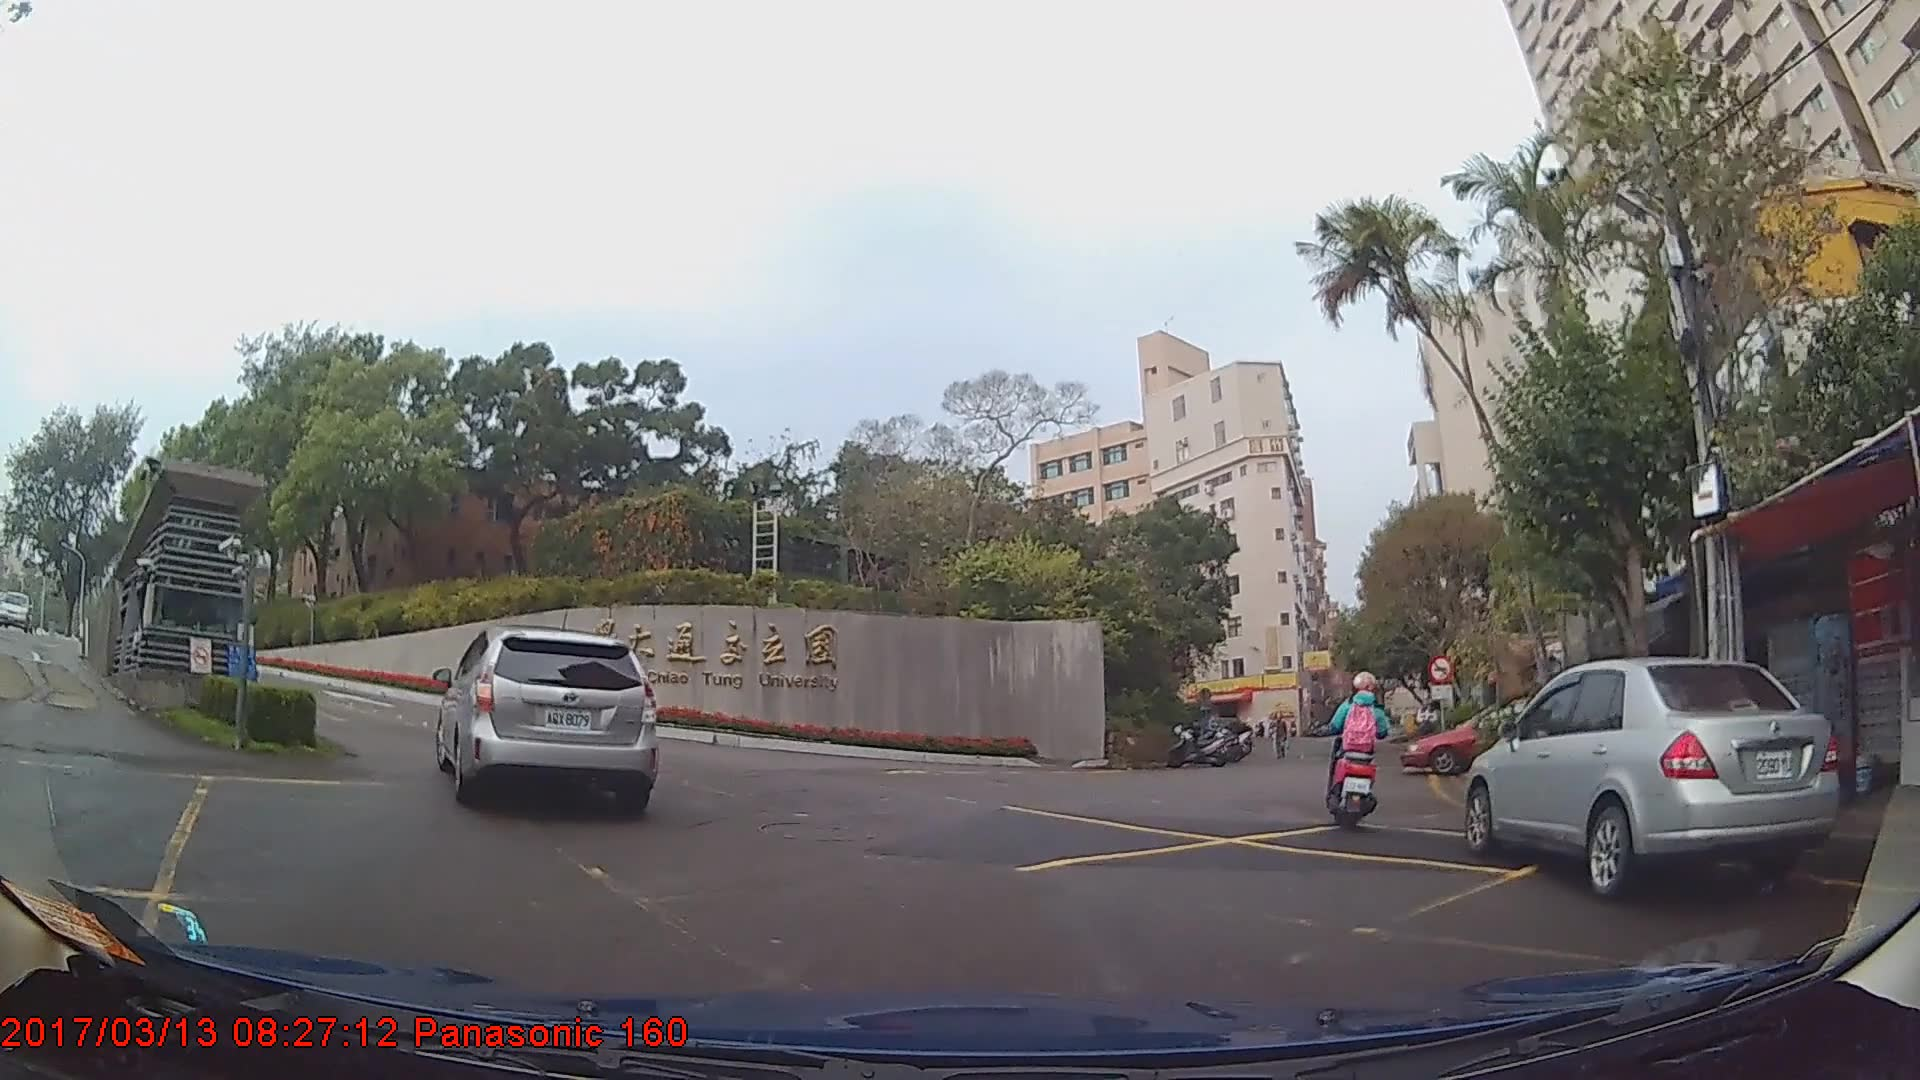pedestrian: (1269, 713, 1290, 762)
rider: (1318, 666, 1389, 835)
vehicle: (1463, 655, 1840, 904), (434, 626, 658, 810), (1401, 695, 1568, 772), (1, 590, 36, 632)
